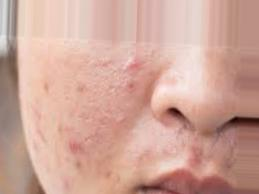Acne: (56, 124, 92, 159), (102, 51, 147, 76)
